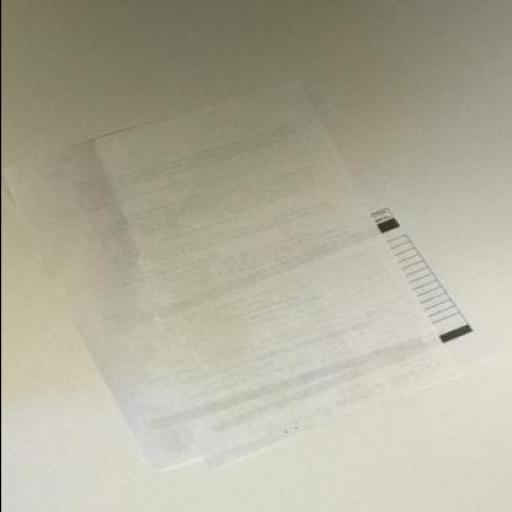paper: (1, 82, 452, 472), (196, 88, 494, 472)
